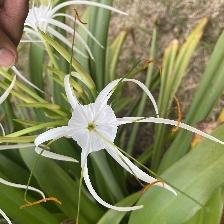spider lily: (34, 73, 224, 212), (25, 3, 123, 64)
